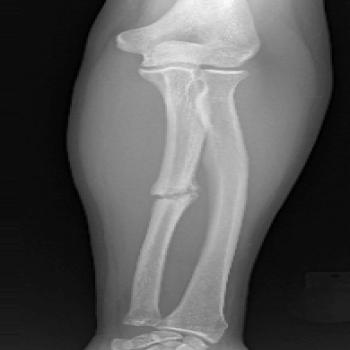Fracture: (140, 182, 202, 203)
